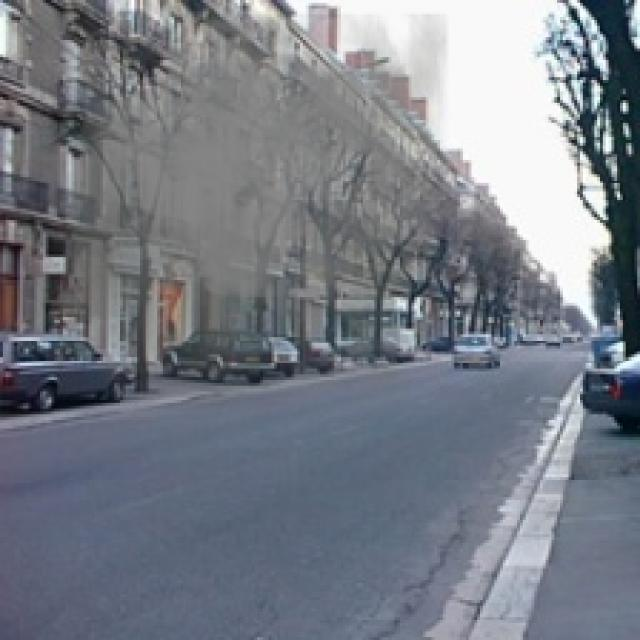smoke: (51, 0, 448, 406)
